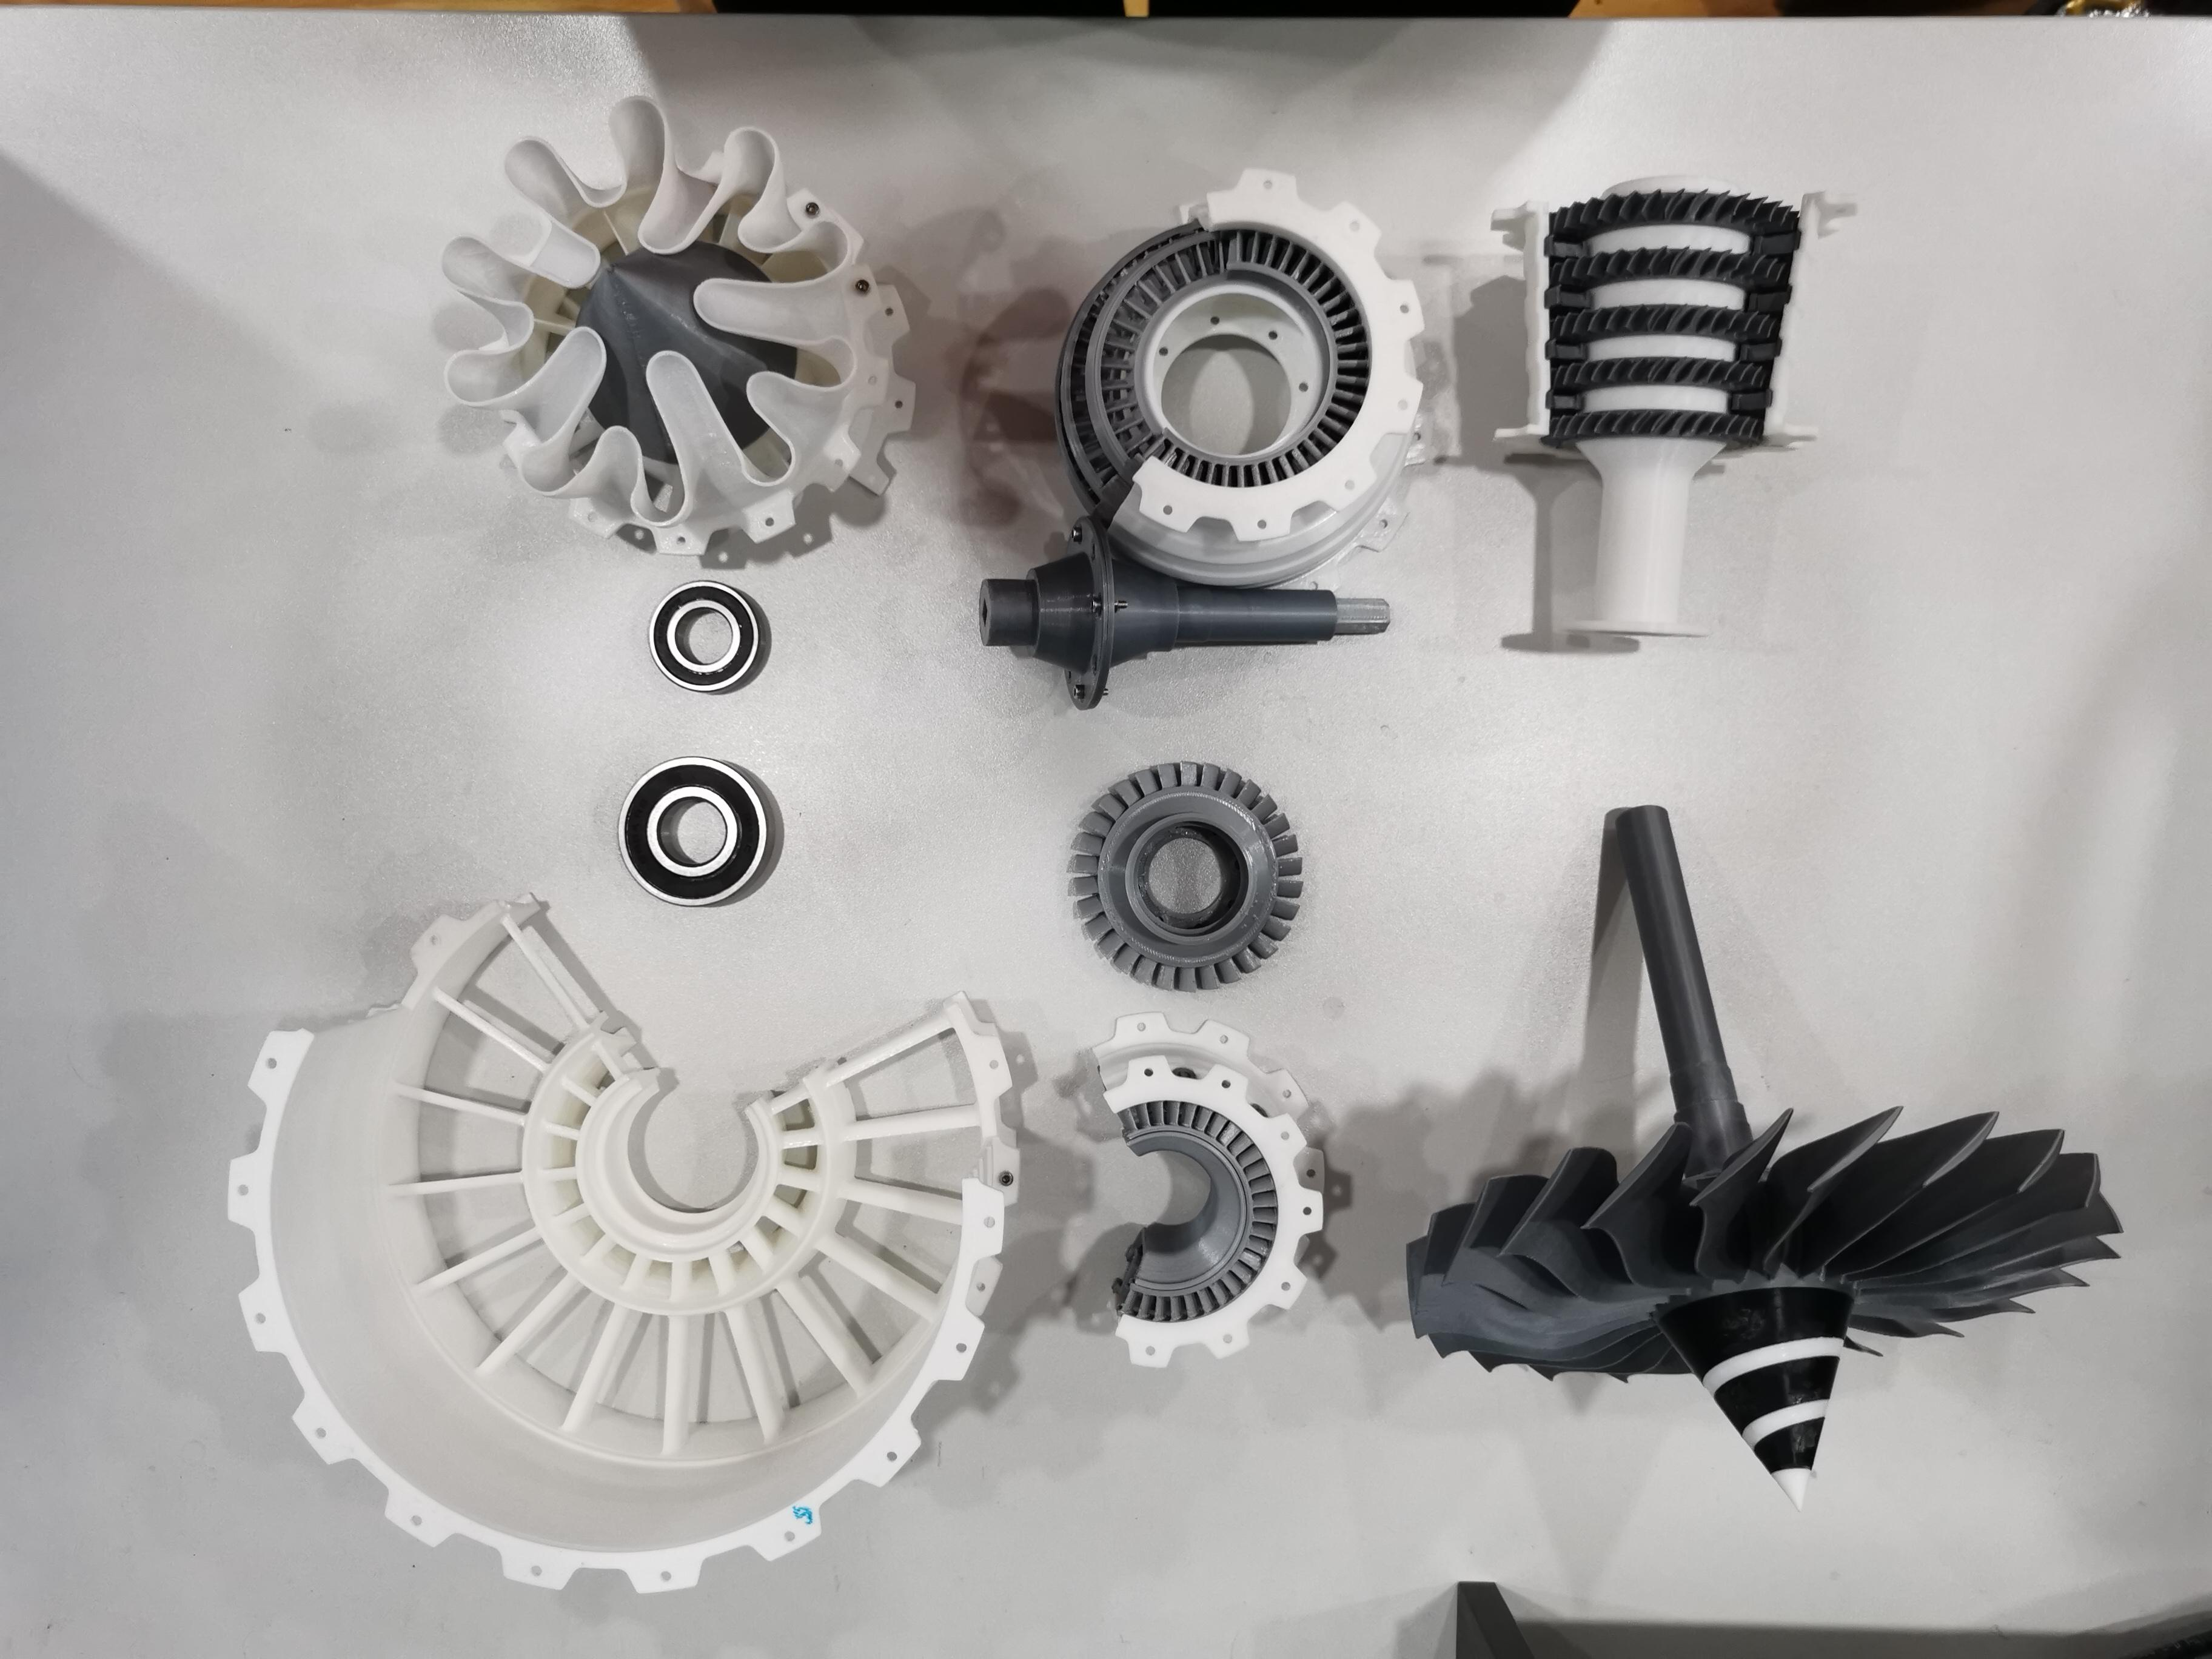Bearing-6003: (634, 575, 782, 706)
Bearing-6204: (583, 746, 806, 929)
Fan Casing and Support: (204, 887, 1024, 1608)
Fan and Low Pressure Shaft: (1400, 796, 2128, 1516)
HPT Section: (1052, 1002, 1343, 1380), (1043, 748, 1334, 1000)
High Pressure Spool: (1465, 164, 1879, 683)
LPT Section: (1033, 159, 1440, 601)
Low Pressure Spool: (960, 514, 1413, 711)
Nozzle Section: (423, 85, 928, 575)
